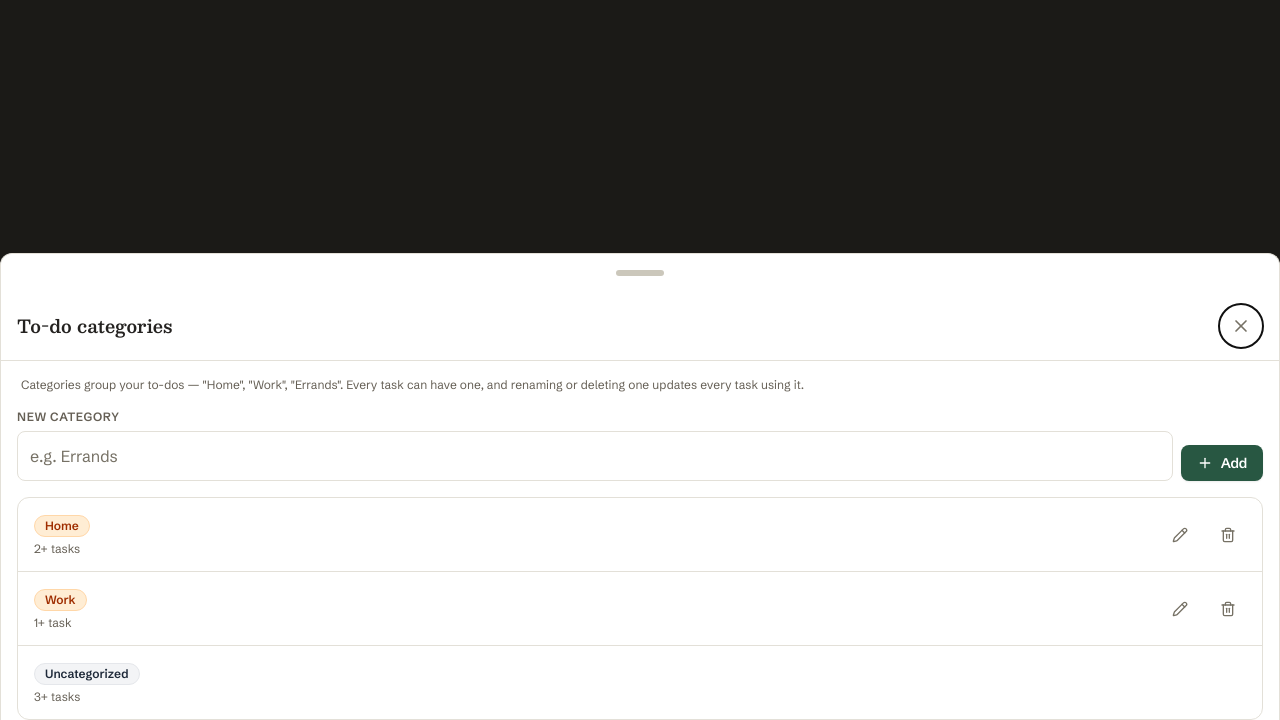
Scenario: TodoCategoryManagerDrawer › rejects a case-insensitive duplicate with a message instead of writing
Type "hOmE" into the field labelled "New category" at coordinates (595, 456), box [17,431,1173,481]
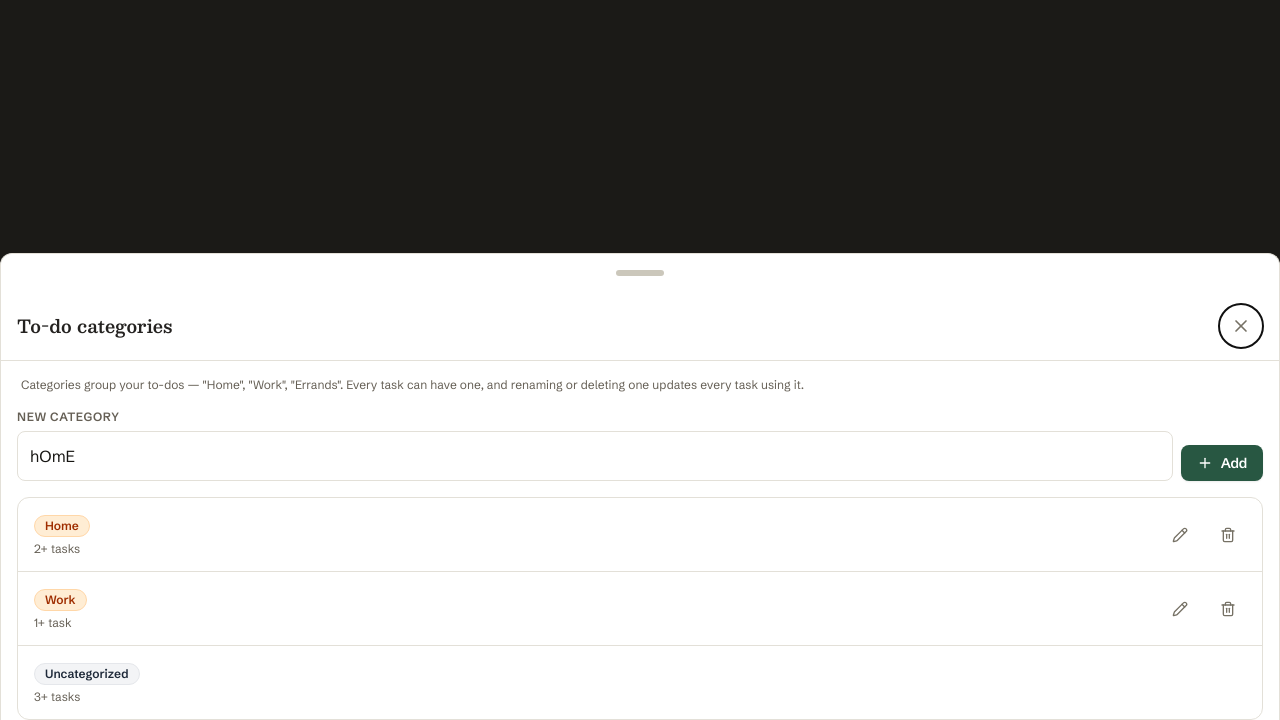
Click the button "Add" at coordinates (1222, 463), box [1181,445,1263,481]
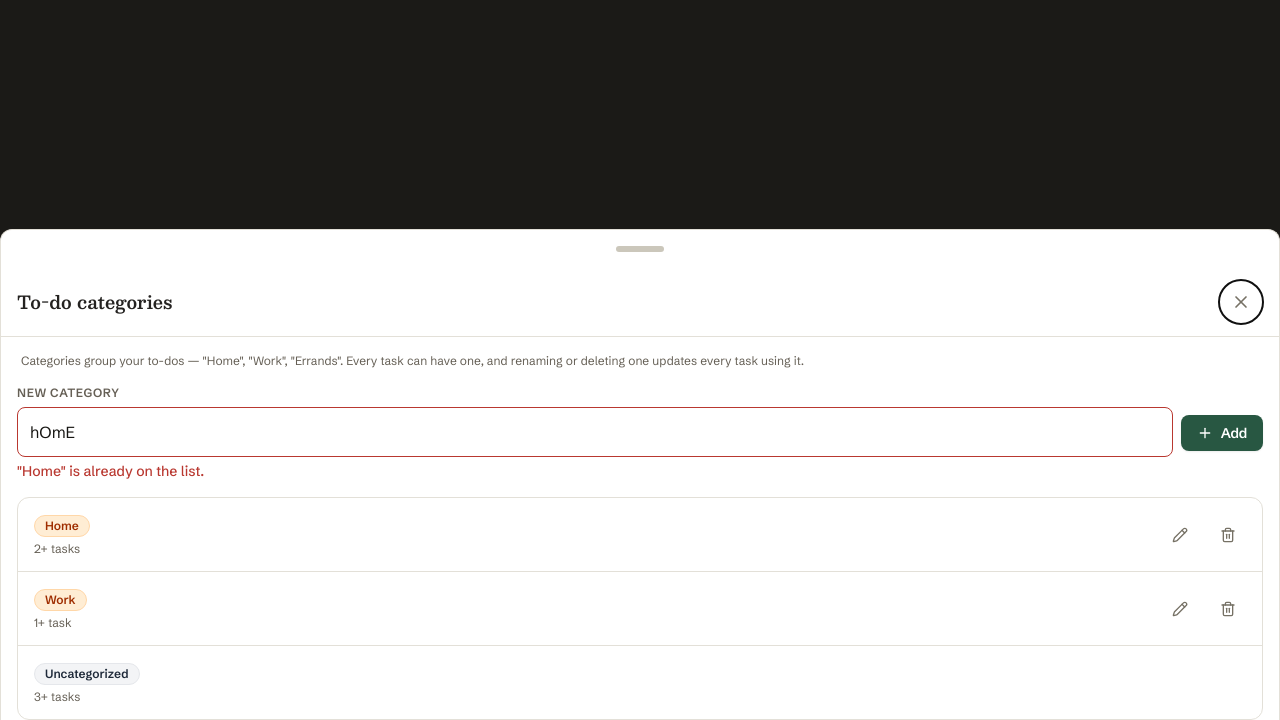
Expected: the text "\"Home\" is already on the list." is shown, [17,462,204,480]
